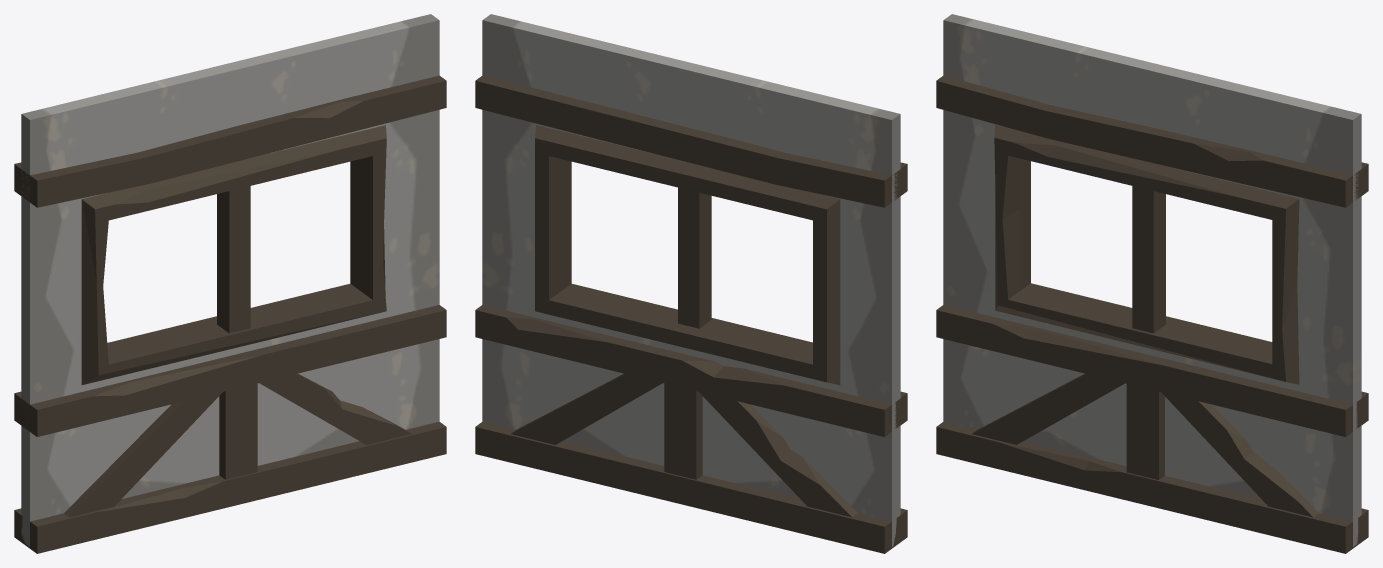
The model's file is kingdom_SM_Bld_House_Wall_Window_07.gltf.
3 renders of one model, left to right at view 1: azimuth 30°, elevation 25°; view 2: azimuth 150°, elevation 25°; view 3: azimuth 330°, elevation 25°, orthographic.
Parts seen in each view (by area): view 1: SM_Bld_House_Wall_Window_07; view 2: SM_Bld_House_Wall_Window_07; view 3: SM_Bld_House_Wall_Window_07.
Part boxes in pixels (box(x1,y1,x2,y2)): SM_Bld_House_Wall_Window_07: box(14, 14, 446, 553); SM_Bld_House_Wall_Window_07: box(475, 14, 907, 553); SM_Bld_House_Wall_Window_07: box(936, 14, 1368, 553).
Bounding box in the file's own units: 2.5 × 2.5 × 0.242.
Materials: 1 (1 with a texture image).
